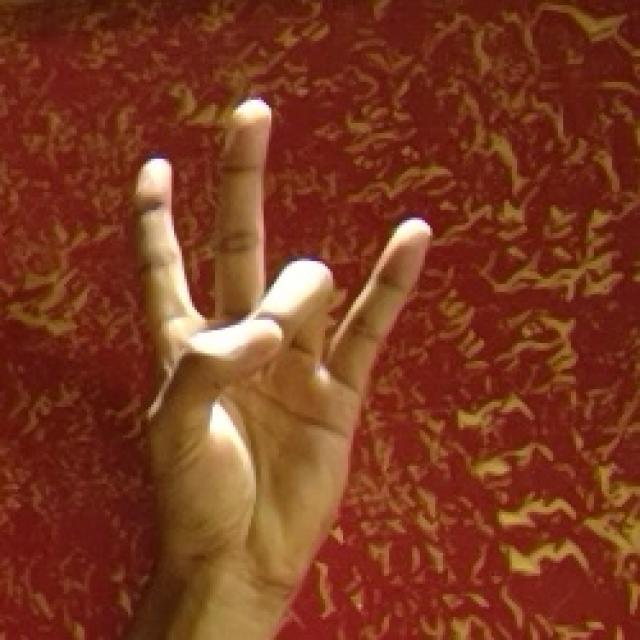Numeric-7: (121, 88, 432, 572)
